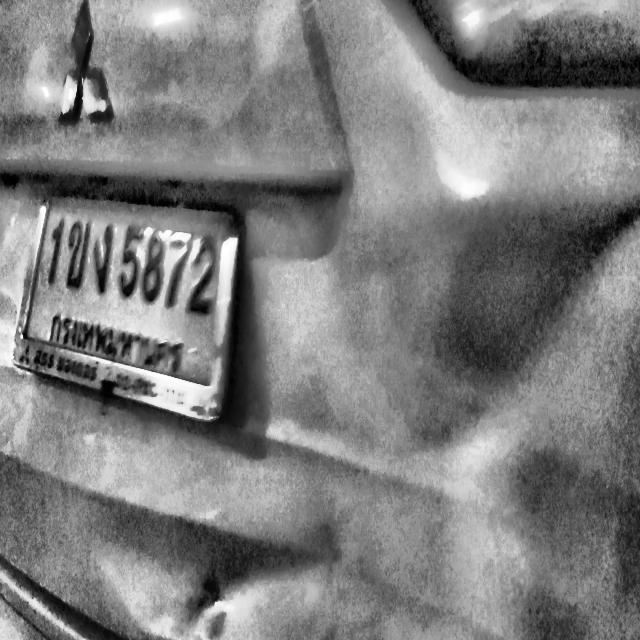license-plate: (22, 202, 224, 389)
